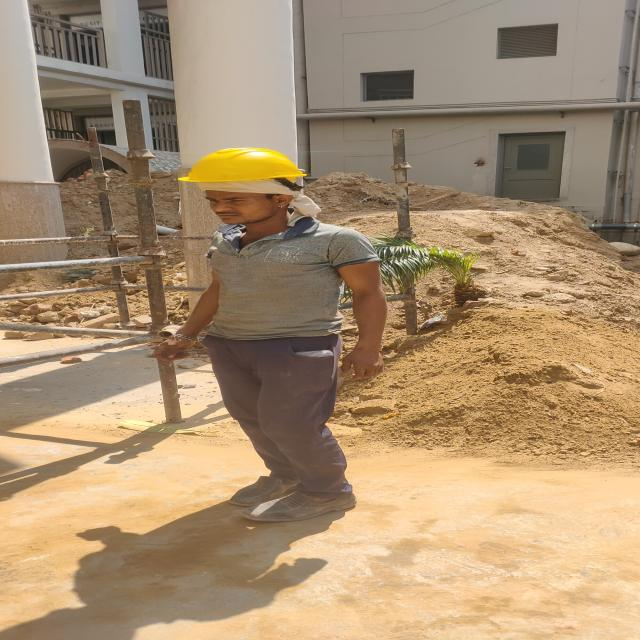no jacket: (177, 148, 381, 521)
